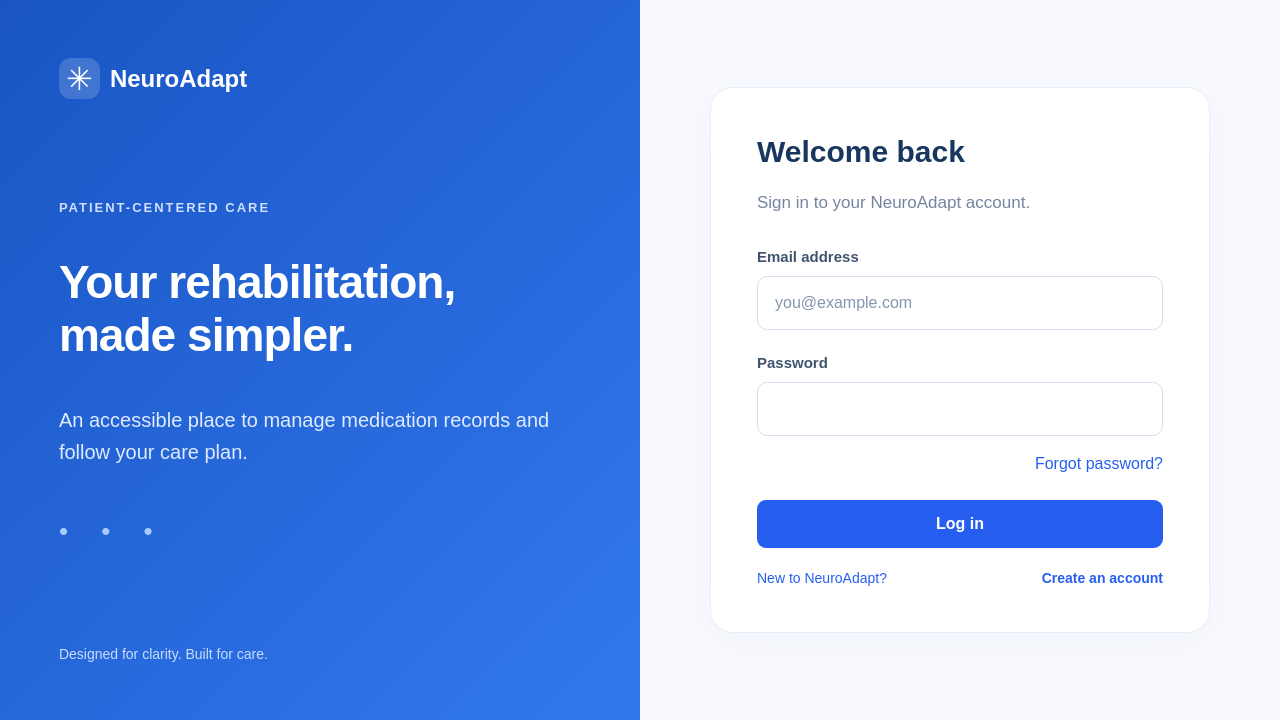
Test case: authentication and routing › displays backend login errors
In the field labelled "Email address": point(960, 303) [757,276,1163,330], type "patient@example.com"
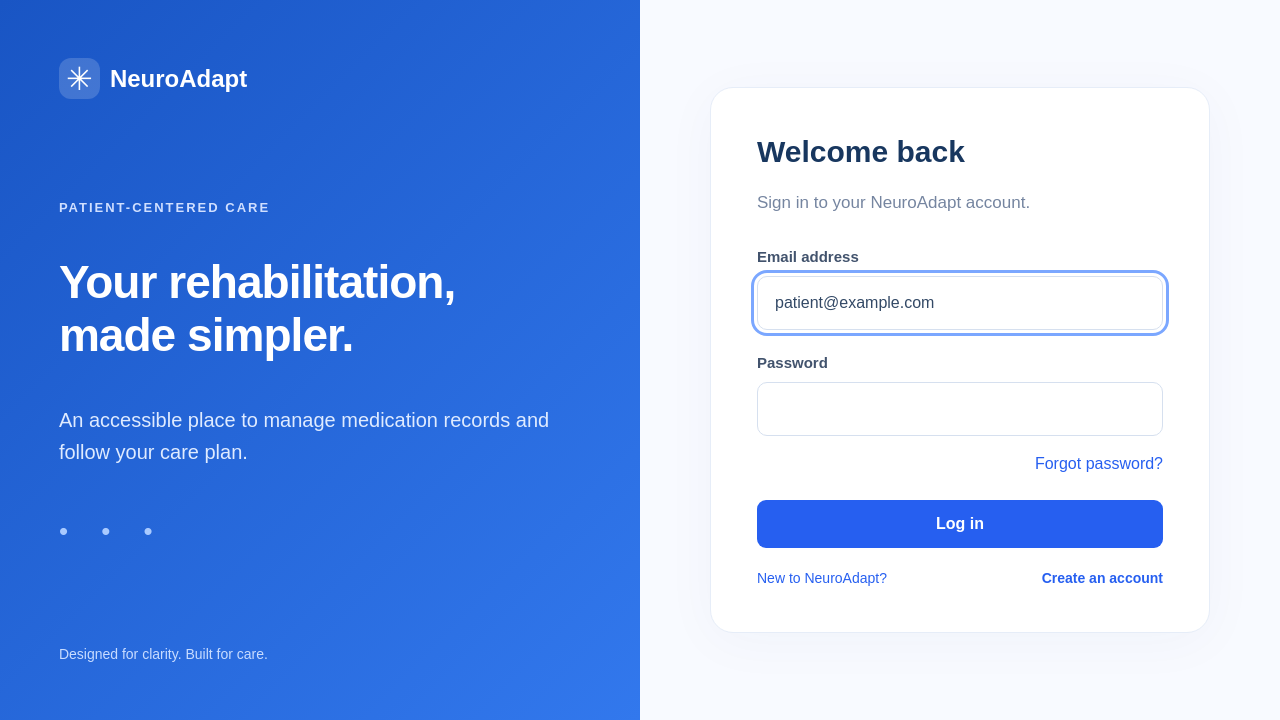
In the password field labelled "Password": point(960, 409) [757,382,1163,436], type "wrong"
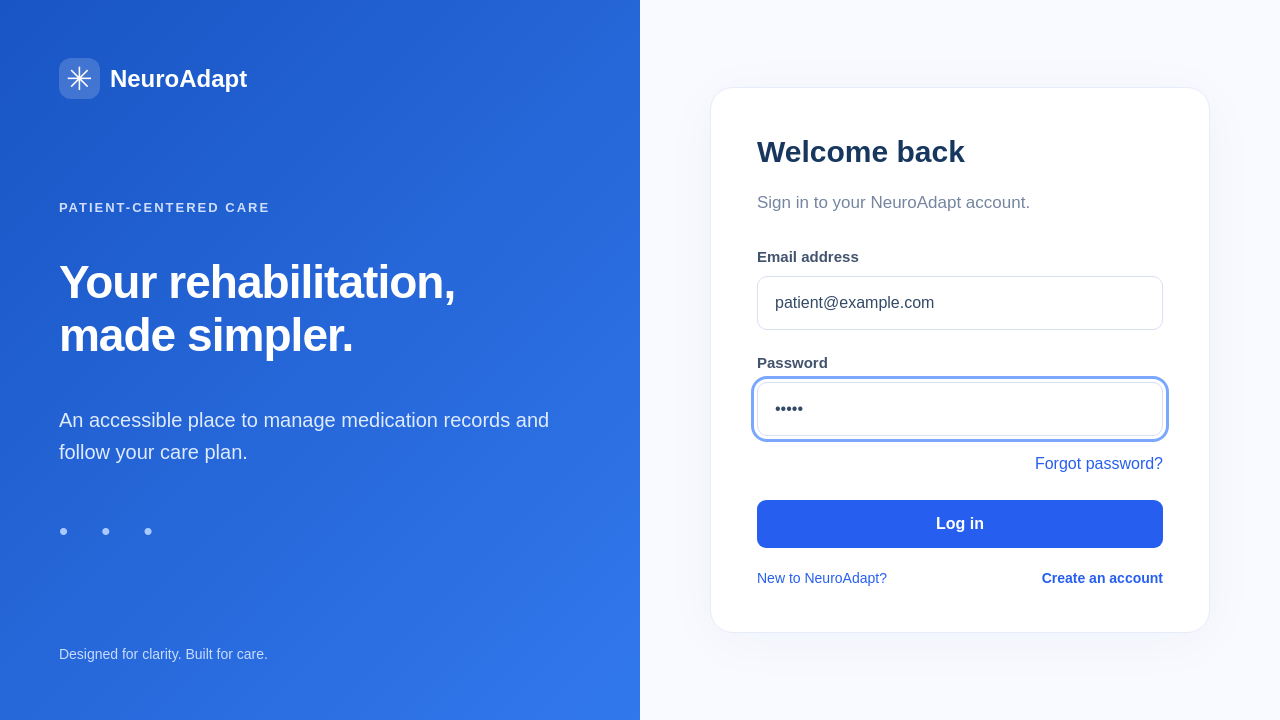
Click the button "Log in": point(960, 524) [757,500,1163,548]
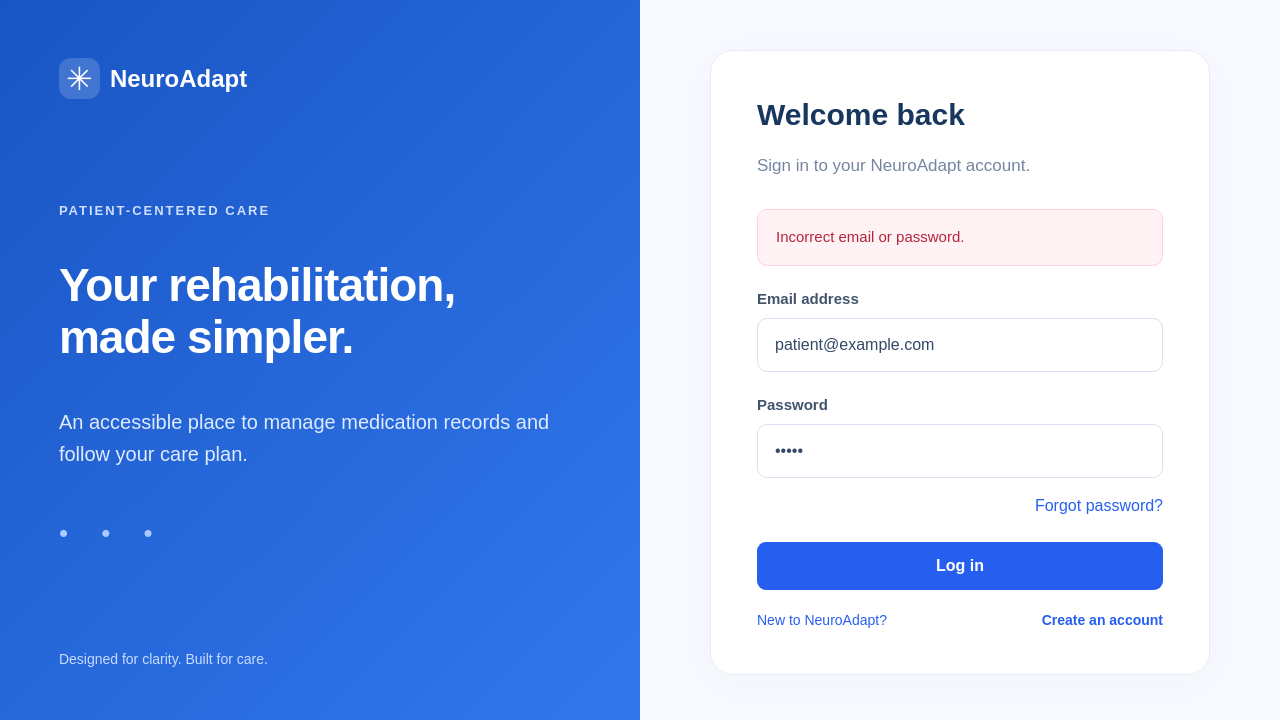
Result: the message reads "Incorrect email or password." at [776,228,964,245]
